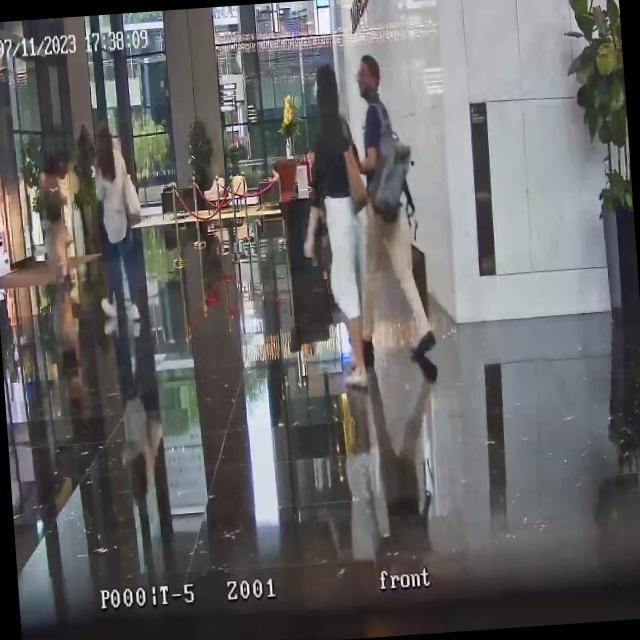person: (346, 49, 438, 390), (302, 62, 378, 383), (88, 116, 148, 328), (36, 152, 73, 292)
